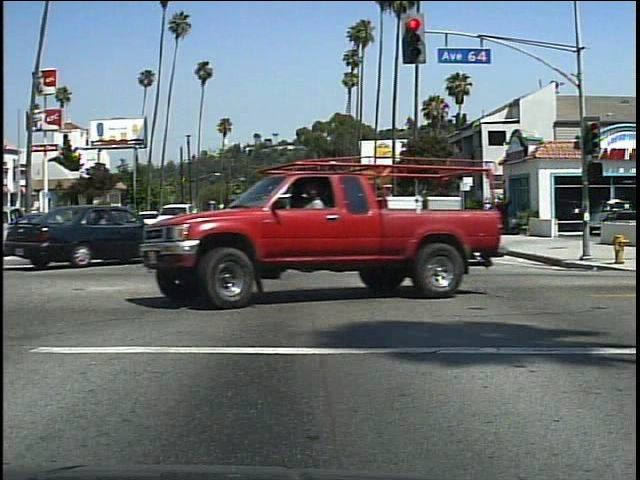person: (301, 176, 341, 294), (476, 200, 500, 236)
